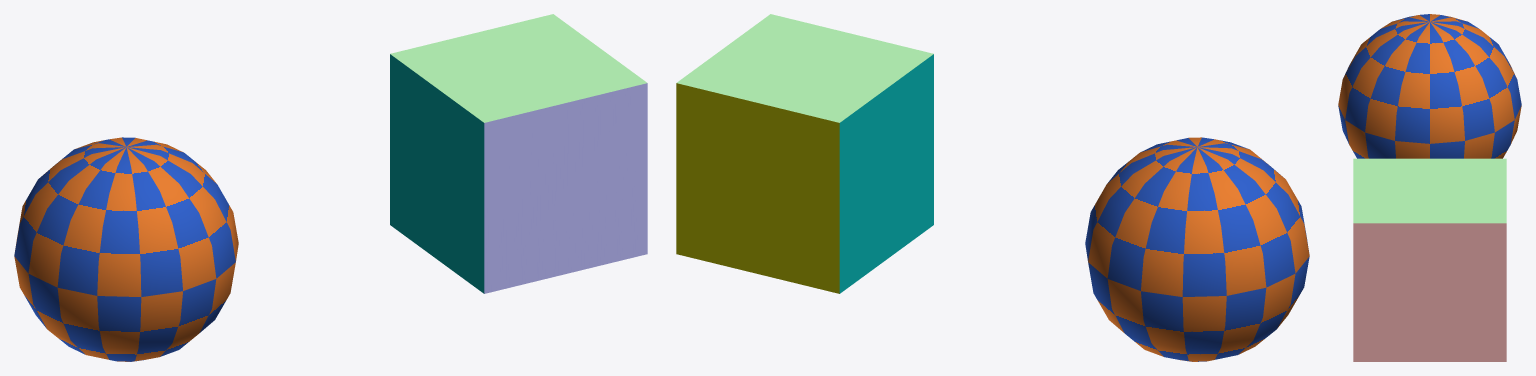
Rendered from source.glb.
3 renders of one model, left to right at view 1: azimuth 30°, elevation 25°; view 2: azimuth 150°, elevation 25°; view 3: azimuth 270°, elevation 25°, orthographic. The views are drawn at different scales.
Visible parts, largest first — view 1: Box, Ball; view 2: Box, Ball; view 3: Box, Ball.
Boxes of the visible parts, left/top/right/bottom form: Box: left=390, top=14, right=647, bottom=293; Ball: left=14, top=137, right=238, bottom=361; Box: left=676, top=14, right=933, bottom=293; Ball: left=1085, top=137, right=1309, bottom=361; Box: left=1353, top=158, right=1506, bottom=361; Ball: left=1338, top=14, right=1521, bottom=158.
Bounding box in the file's own units: 3.5 × 1.2 × 1.2.
Materials: 2 (1 with a texture image).
